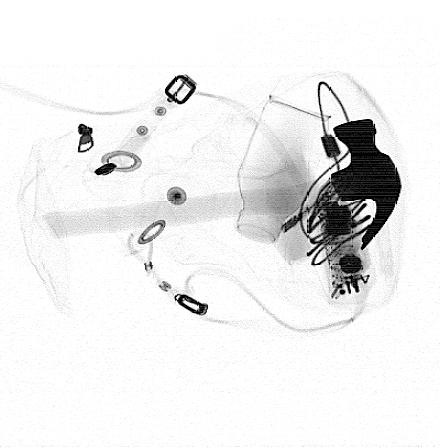Hammer: (43, 118, 403, 252)
